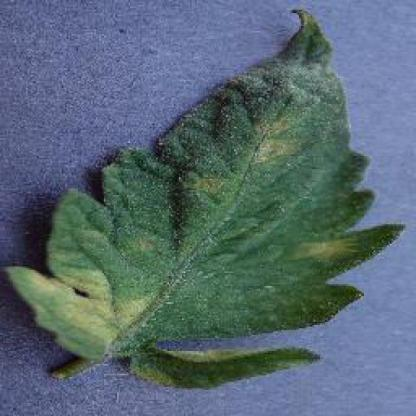Tomato_Leaf_Mold: (8, 10, 404, 382)
